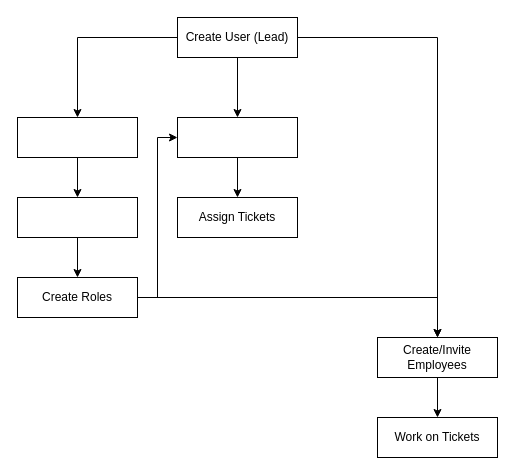
The diagram is 515 pixels wide and 475 high, and some of its shapes have lost their labels. The box of each missing label's shape, as (x1, y1, x2, y2) in pixels:
Create Application: (16, 196, 138, 238)
Create Organization: (16, 116, 138, 158)
Create Ticket for Bug: (176, 116, 298, 158)
